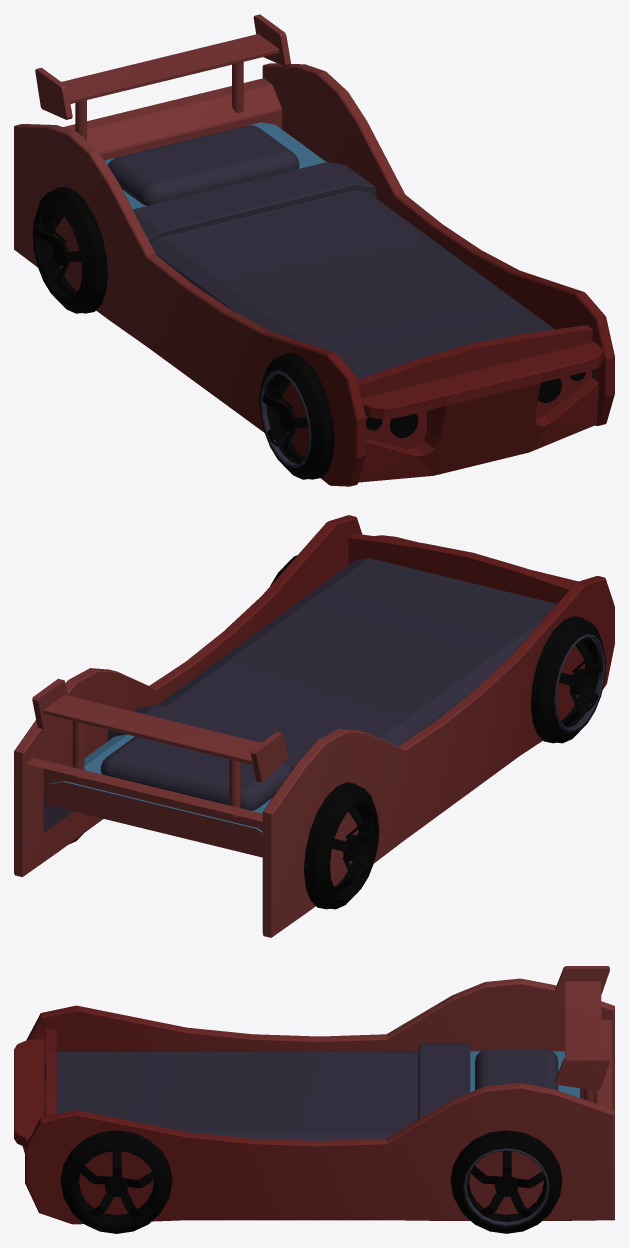
Rendered from SM_BedCar.fbx.
3 views of the same model, one above another, from view 1: azimuth 30°, elevation 25°; view 2: azimuth 150°, elevation 25°; view 3: azimuth 270°, elevation 25° (orthographic). The views are drawn at different scales.
Visible parts, largest first — view 1: SM_BedCar1; view 2: SM_BedCar1; view 3: SM_BedCar1.
Boxes of the visible parts, bbox=[...] form: SM_BedCar1: bbox=[14, 14, 614, 486]; SM_BedCar1: bbox=[14, 515, 614, 937]; SM_BedCar1: bbox=[14, 966, 614, 1233].
Size of the model in its own units: 165 by 97.7 by 323.
